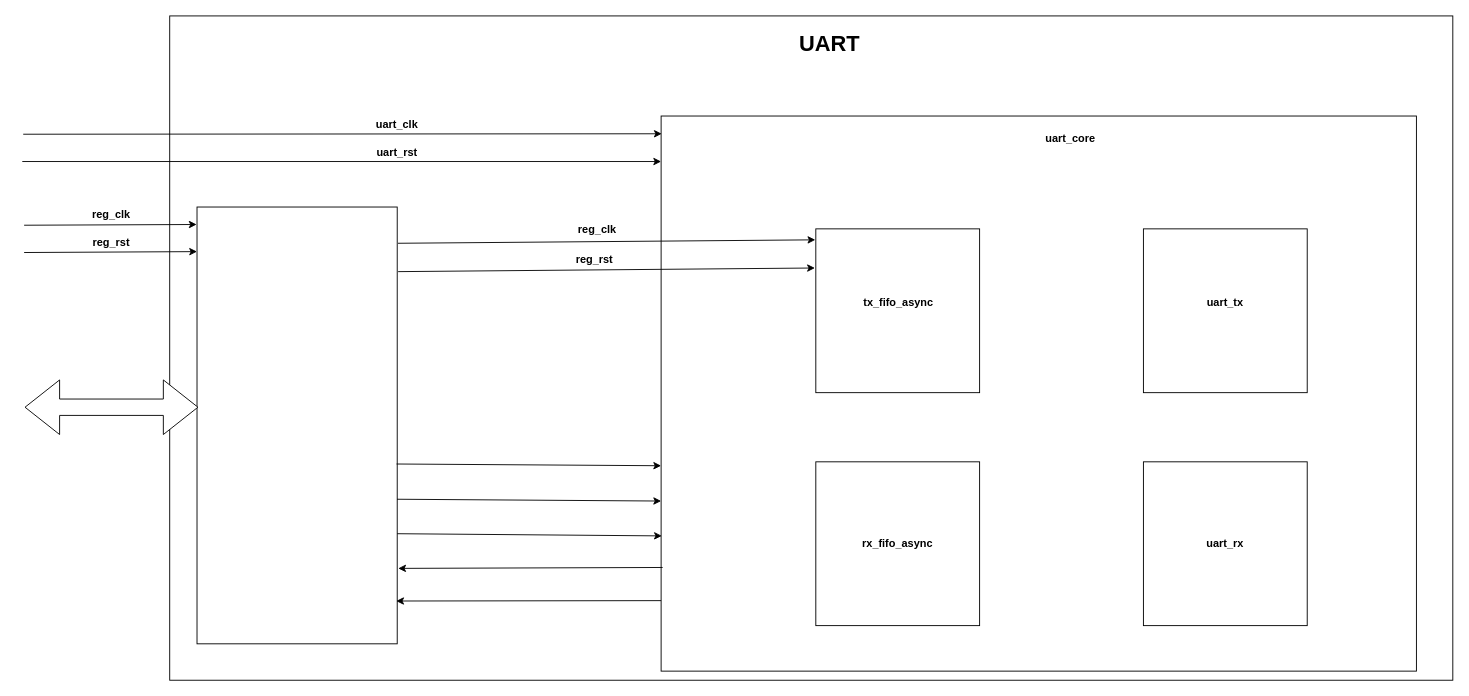
Some shapes in this 1469 by 696 pixel diagram are drawn without their labels. Here are the shapes that lost their labels. From the top down, the box of each, then its label:
(24, 379, 198, 435): TLUL
(196, 206, 397, 644): register file
